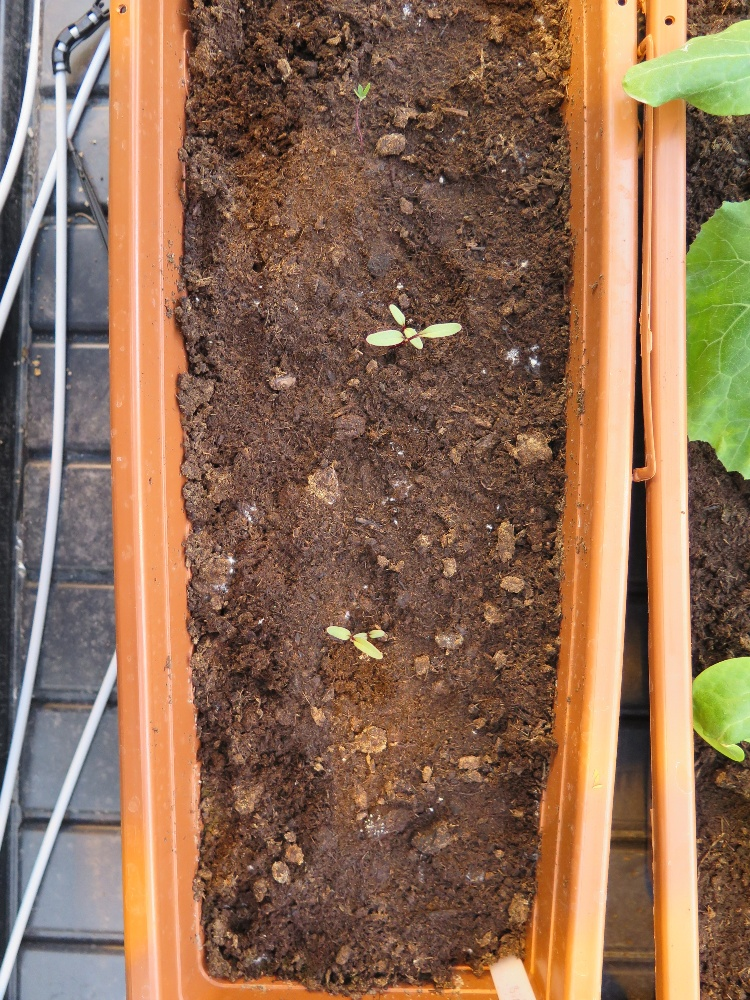crop: (358, 320, 463, 355), (324, 622, 385, 660), (385, 297, 424, 350)
weed: (350, 78, 372, 107)
